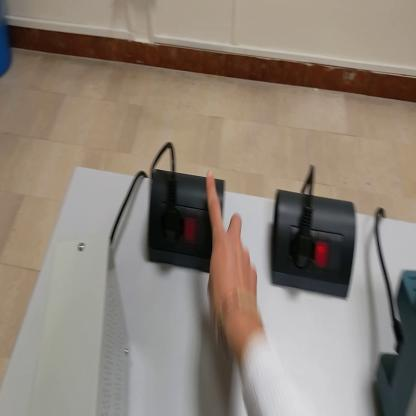hand: (204, 167, 262, 346)
oscilloscope: (377, 270, 416, 415)
power supply: (31, 232, 135, 416)
socket: (270, 188, 359, 307), (148, 170, 231, 274)
